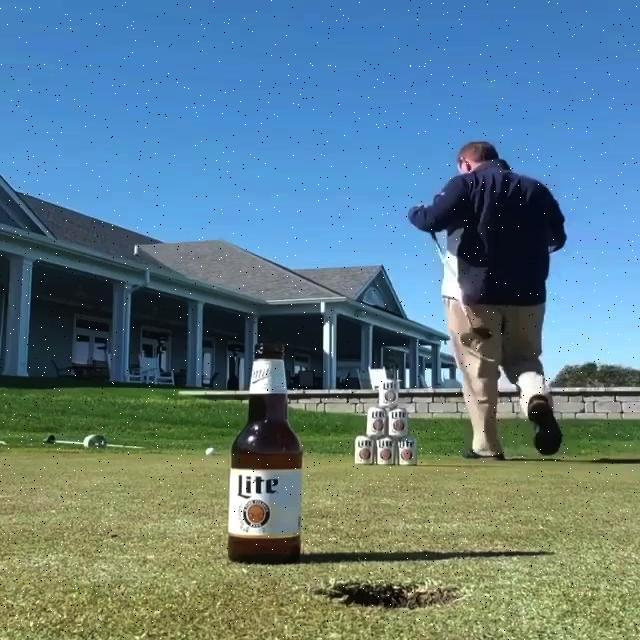ClubHead: (474, 327, 493, 340)
